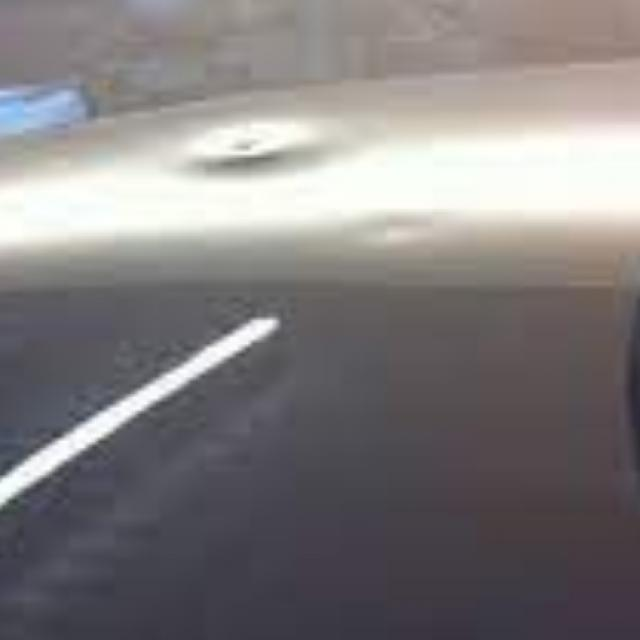dents: (169, 98, 378, 198), (352, 216, 468, 266)
